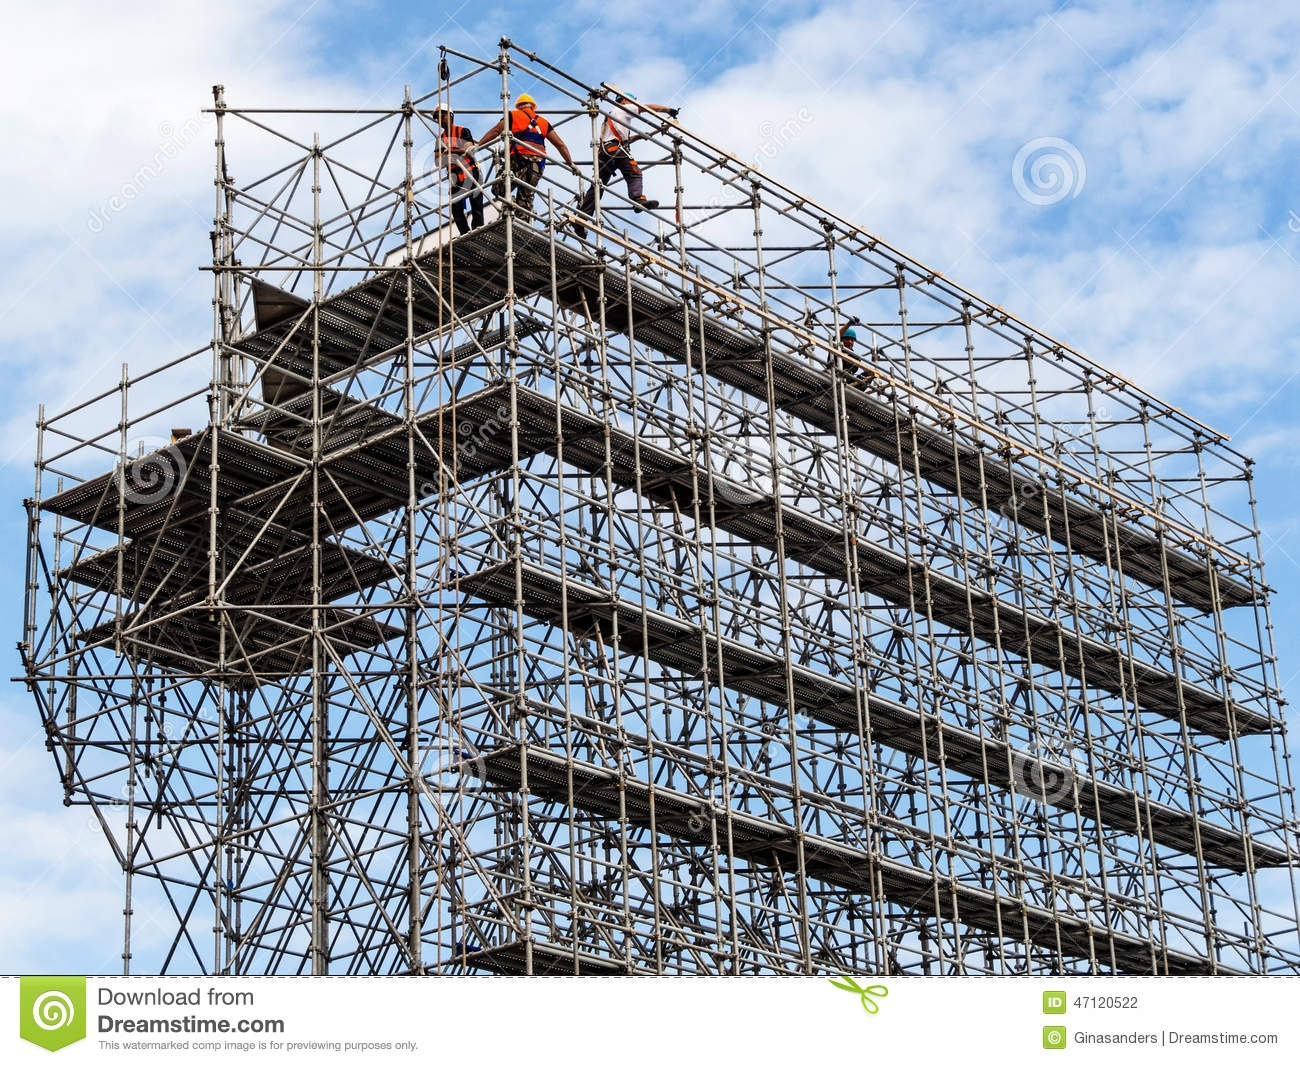blue: (614, 89, 637, 108)
white: (433, 102, 453, 126)
yellow: (512, 89, 537, 111)
